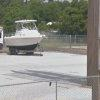Boat: (3, 16, 45, 58)
